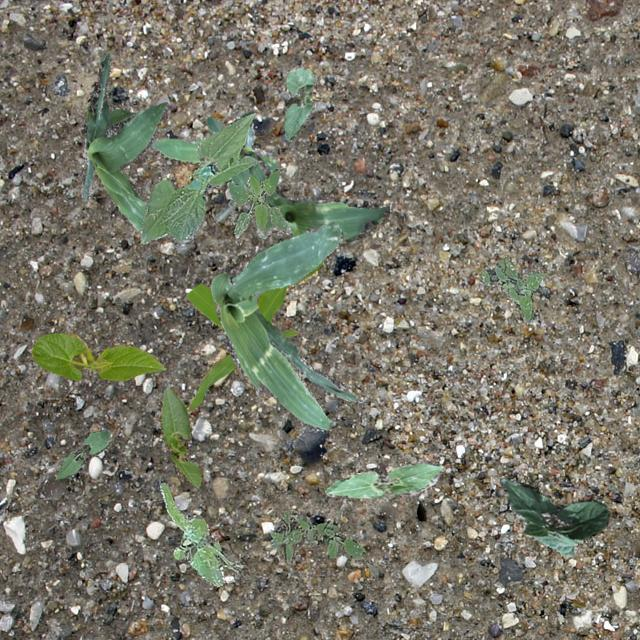crop: (208, 222, 356, 429), (204, 116, 388, 242), (185, 260, 322, 412), (78, 52, 168, 228), (140, 109, 256, 242), (146, 122, 276, 220), (498, 474, 608, 556), (30, 330, 164, 380), (323, 459, 442, 498), (158, 386, 200, 486), (54, 428, 109, 479), (284, 66, 314, 140)
weed: (158, 482, 242, 586), (268, 508, 378, 578), (478, 254, 546, 322), (226, 168, 288, 235)
